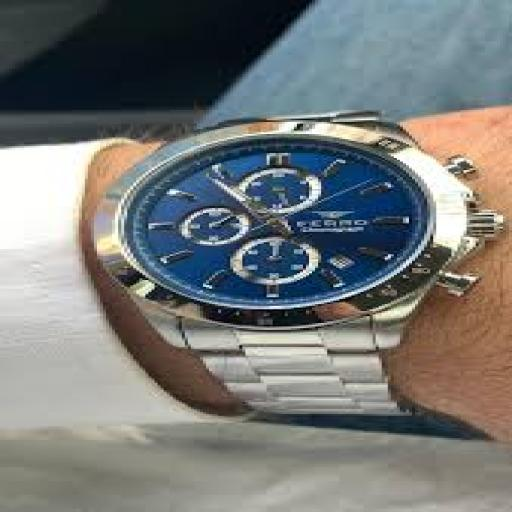KolSaati: (44, 86, 453, 429)
